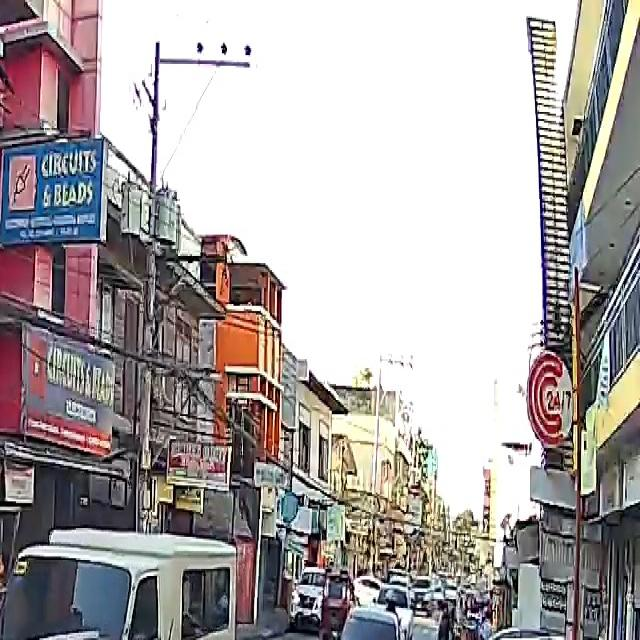car: (0, 629, 317, 640), (325, 604, 409, 640), (473, 627, 639, 640), (291, 583, 326, 634)
